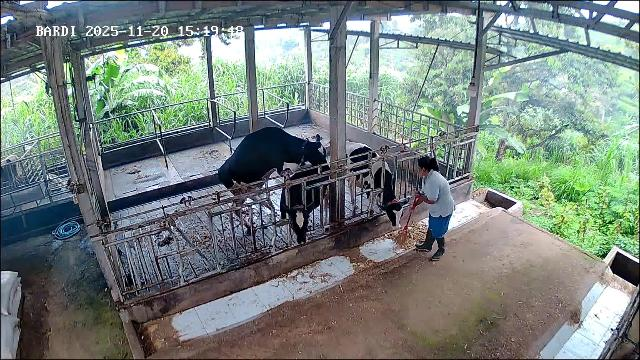mounting: (216, 127, 328, 234)
